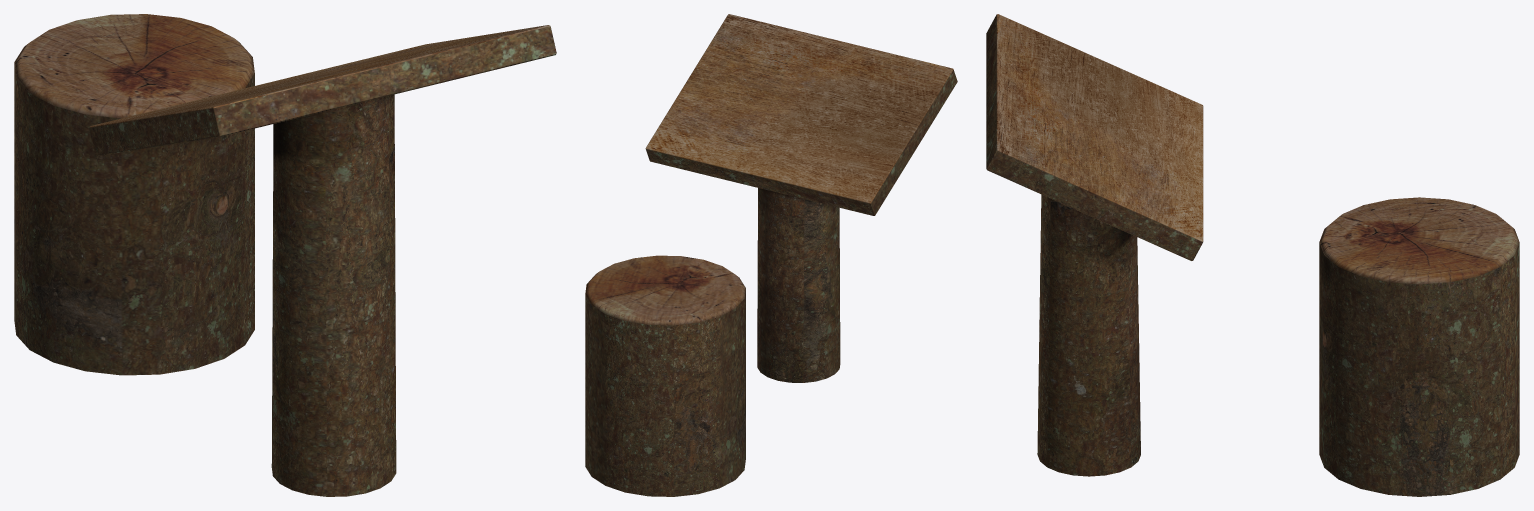
Rendered from FloorAndTable01.fbx.
3 renders of one model, left to right at view 1: azimuth 30°, elevation 25°; view 2: azimuth 150°, elevation 25°; view 3: azimuth 270°, elevation 25°, orthographic. The views are drawn at different scales.
Visible parts, largest first — view 1: pCylinder1, pCylinder2, pCube1; view 2: pCube1, pCylinder1, pCylinder2; view 3: pCylinder1, pCube1, pCylinder2.
Boxes of the visible parts, x1,y1,x2,y2 form: pCylinder1: (14,14,254,375); pCylinder2: (271,94,396,496); pCube1: (89,25,556,156); pCube1: (645,14,957,215); pCylinder1: (585,255,745,496); pCylinder2: (757,188,840,382); pCylinder1: (1319,197,1519,496); pCube1: (986,14,1203,260); pCylinder2: (1037,194,1140,476).
Size of the model in its own units: 67.97 by 85.92 by 112.
Materials: 1 (1 with a texture image).
